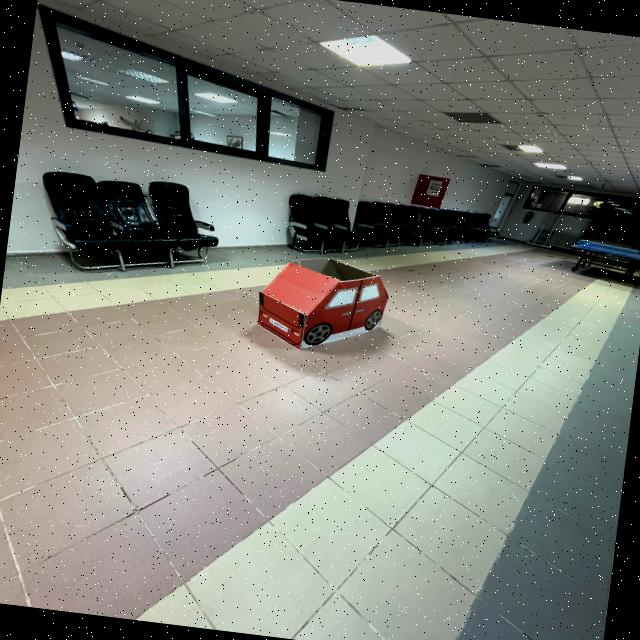red_car: (246, 246, 398, 361)
